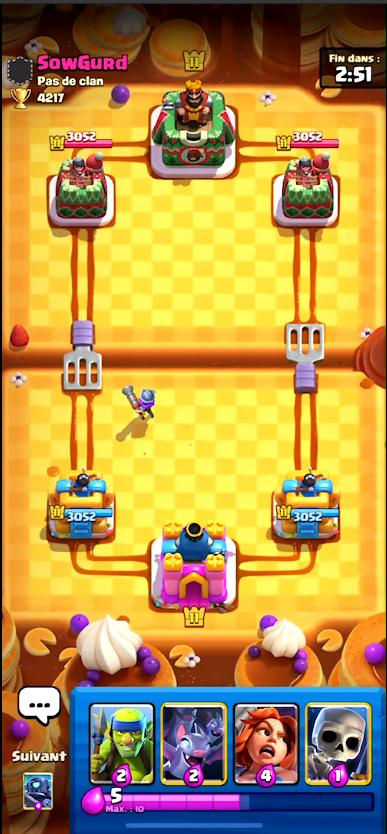mousquetaire: (124, 385, 156, 421)
